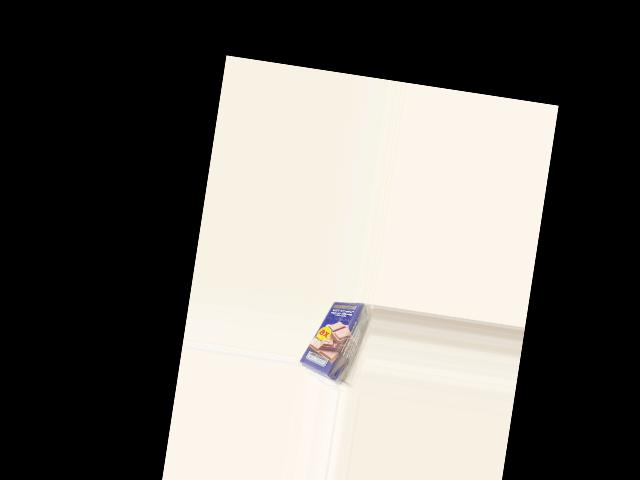chocolate: (296, 294, 369, 381)
